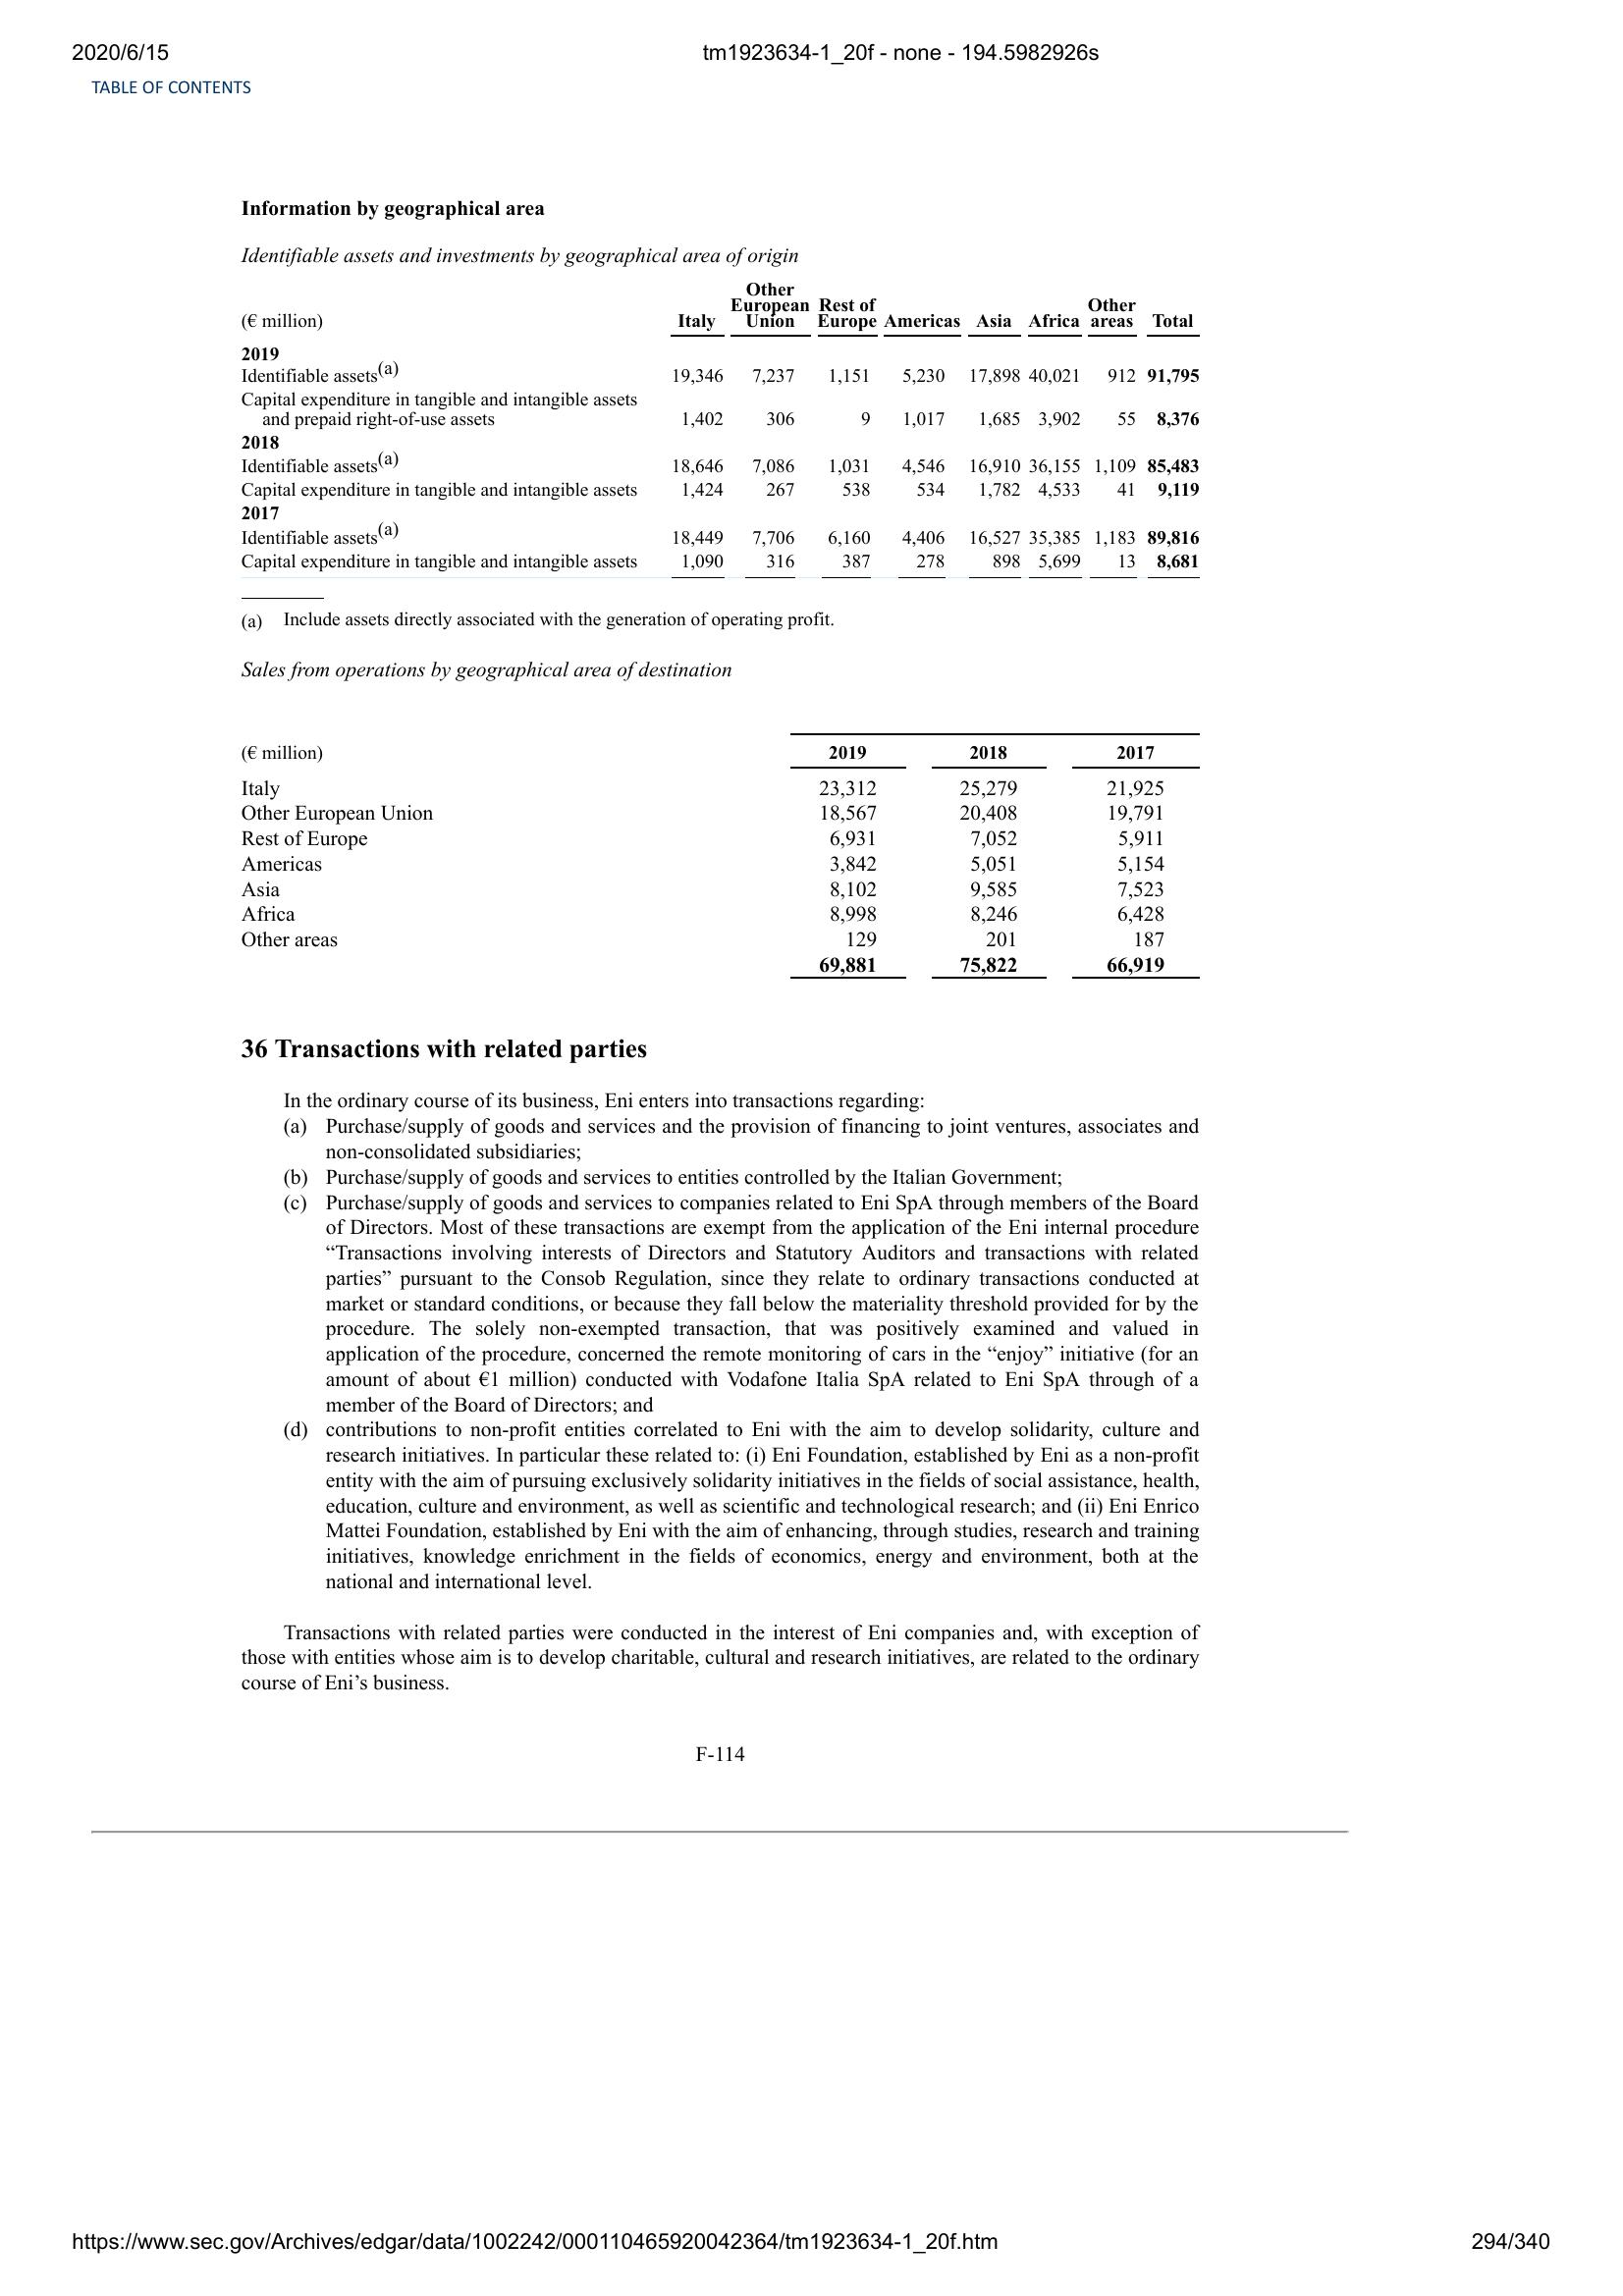table: (235, 279, 1215, 585), (235, 721, 1210, 983)
